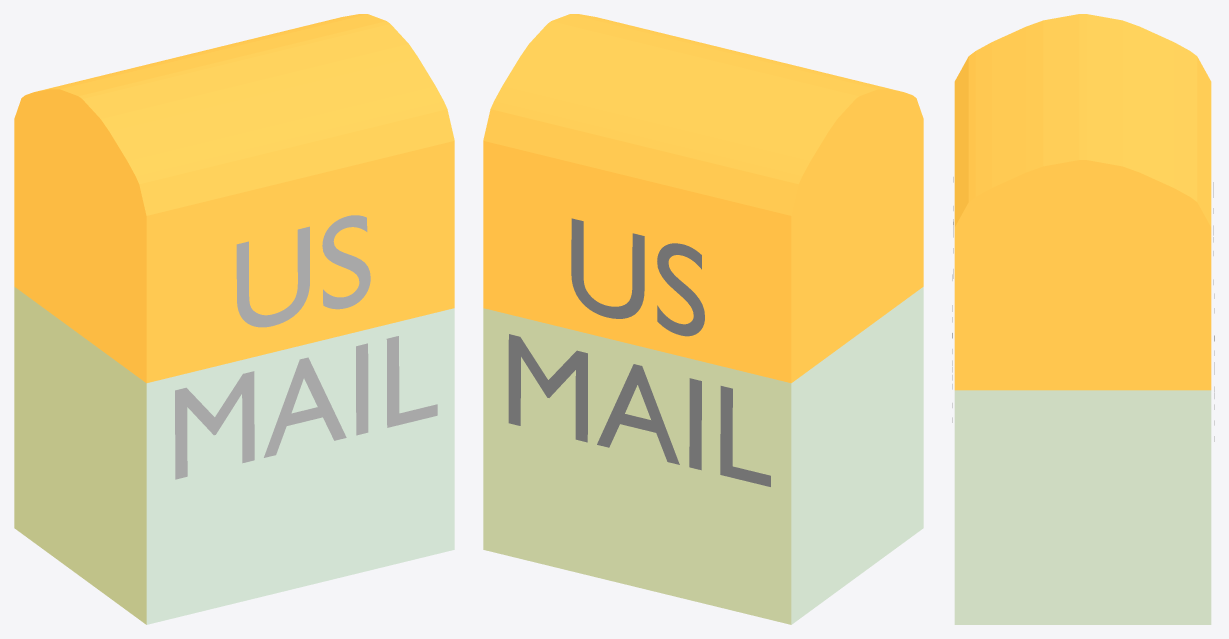
The model's file is glowmailbox.fbx.
3 views of the same model, side by side, from view 1: azimuth 30°, elevation 25°; view 2: azimuth 150°, elevation 25°; view 3: azimuth 270°, elevation 25° (orthographic). The views are drawn at different scales.
Visible parts, largest first — view 1: Cube, US; view 2: Cube, US.001; view 3: Cube.
Part boxes in pixels (left/top/right/bottom): Cube: left=14, top=14, right=454, bottom=624; US: left=175, top=215, right=437, bottom=479; Cube: left=483, top=14, right=923, bottom=624; US.001: left=508, top=218, right=770, bottom=486; Cube: left=954, top=14, right=1211, bottom=624.
Size of the model in its own units: 135 by 200 by 102.
